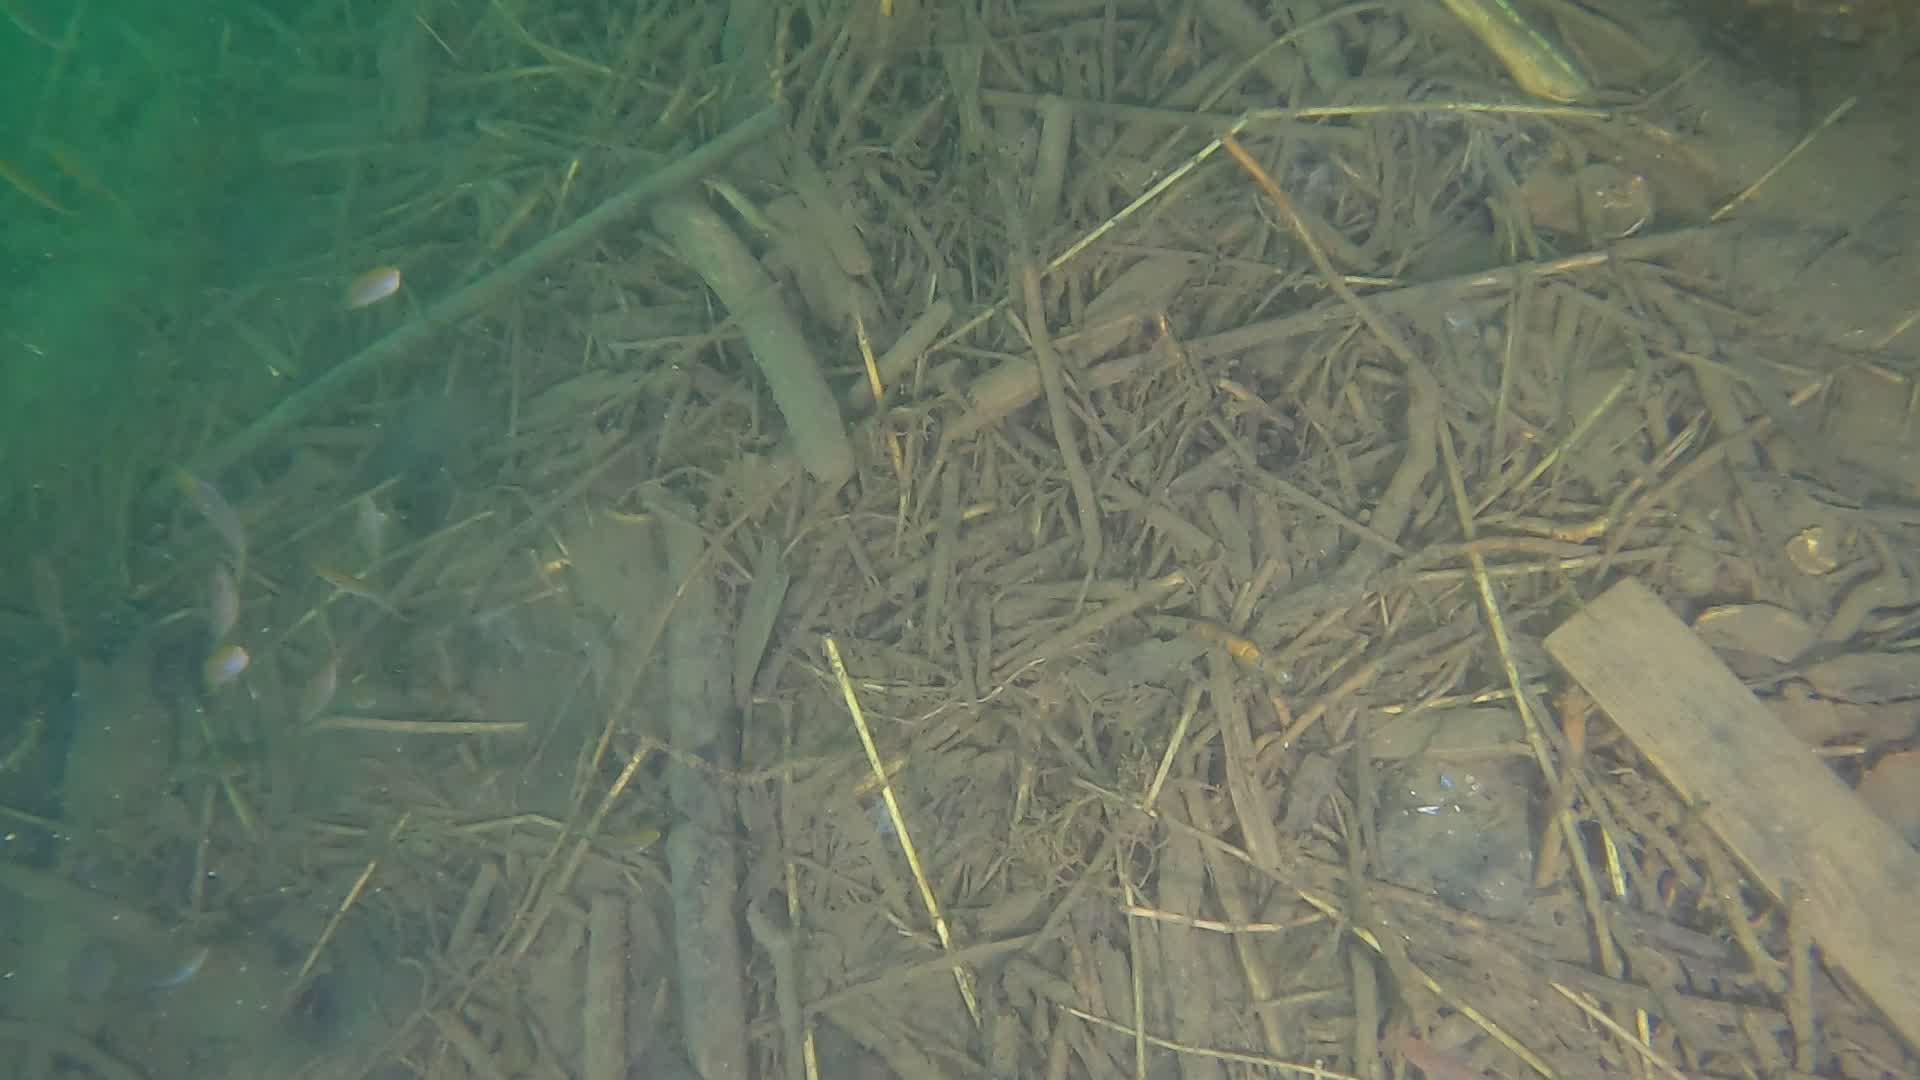wood: (1540, 571, 1920, 1058)
